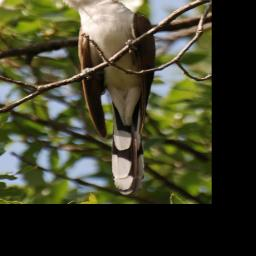Cuckoo: (42, 0, 159, 197)
